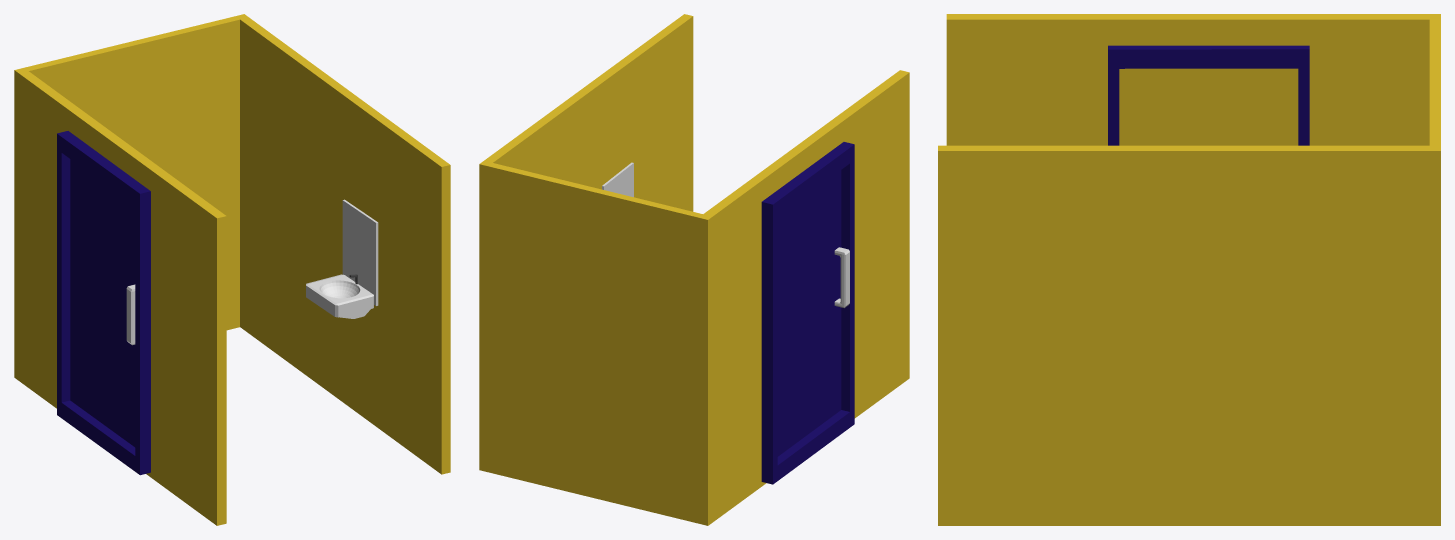
File: Toilet.fbx
3 views of the same model, side by side, from view 1: azimuth 30°, elevation 25°; view 2: azimuth 150°, elevation 25°; view 3: azimuth 270°, elevation 25° (orthographic). The views are drawn at different scales.
Visible parts, largest first — view 1: Toilet Wall, Door, Mirror, basin, Handel; view 2: Toilet Wall, Door, Handel, Mirror; view 3: Toilet Wall, Door.
Boxes of the visible parts, <box> form: Toilet Wall: <box>14,14,450,525</box>; Door: <box>57,131,150,475</box>; Mirror: <box>342,199,378,305</box>; basin: <box>306,274,373,318</box>; Handel: <box>126,284,135,345</box>; Toilet Wall: <box>479,14,909,525</box>; Door: <box>761,142,854,484</box>; Handel: <box>834,247,849,307</box>; Mirror: <box>602,162,633,197</box>; Toilet Wall: <box>938,14,1440,525</box>; Door: <box>1108,45,1309,145</box>.
Bounding box in the file's own units: 977 × 1237 × 1435.
